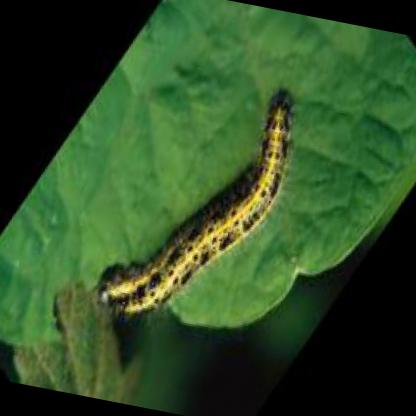pieris: (96, 86, 294, 312)
